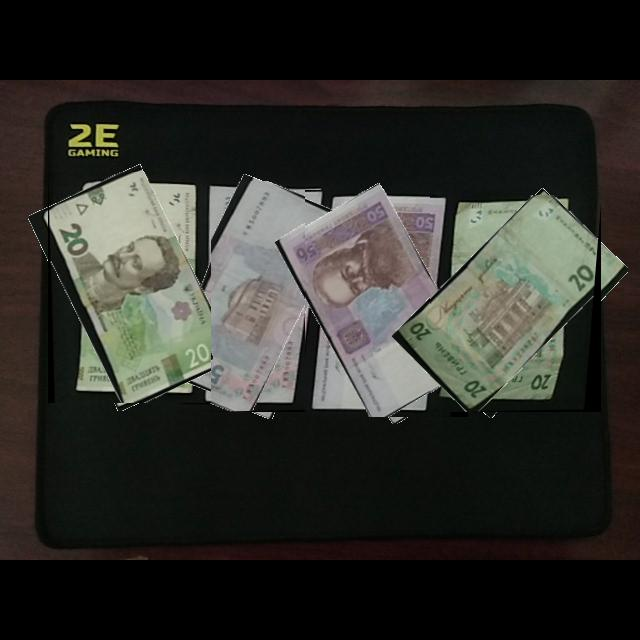20uah: (48, 172, 212, 404), (430, 195, 602, 413)
50uah: (305, 190, 469, 418), (181, 181, 335, 413)
